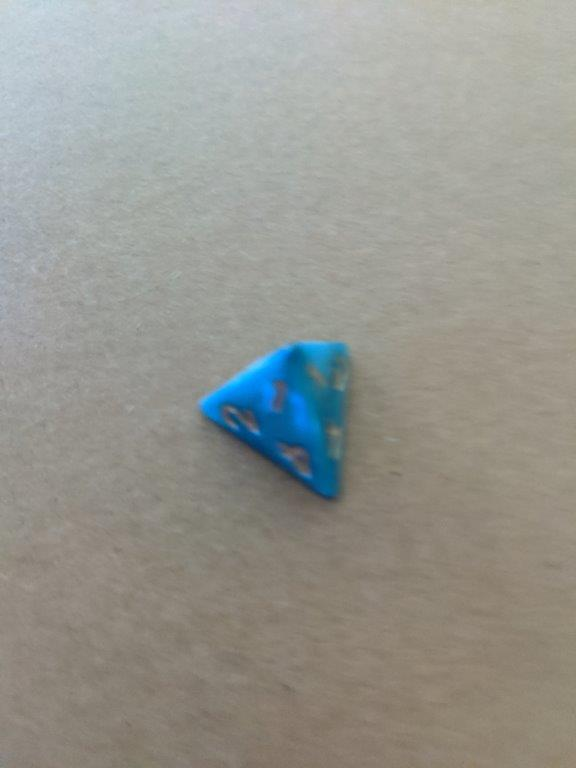d4-1: (193, 334, 353, 505)
